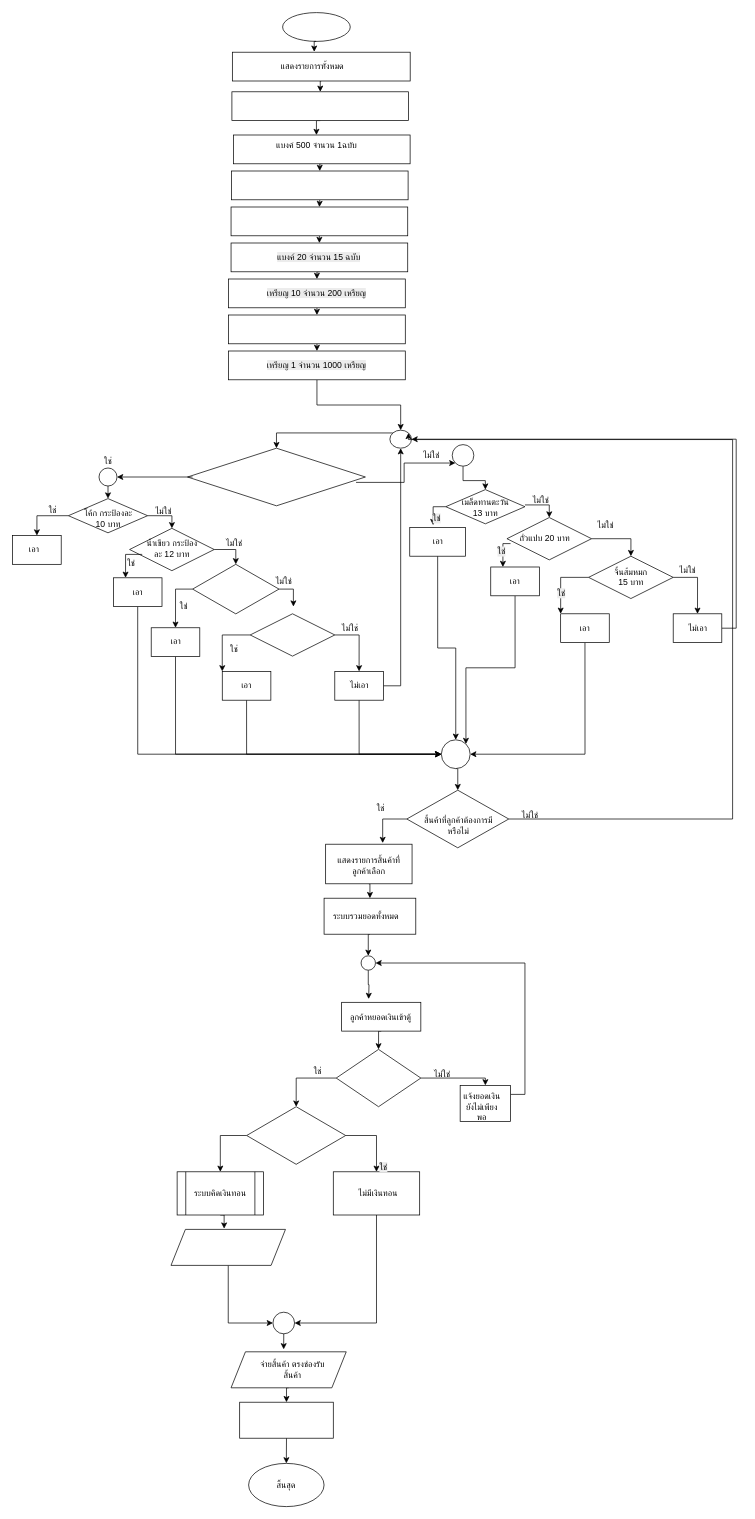
This 755x1519 diagram has some shape labels left out. Each missing label, with the centre of its shape:
ลาเต้ หวานเจี๊ยบ 35 บาท: the point at 292,634
ลูกค้าเลือกรายการสิ้นค้าประเภทน้ำหรือไม่: the point at 276,476
อเมริกาโน่ 30 บาท: the point at 235,589
เงินที่จ่าย-ยอดทั้งหมด=0 หรือไม่: the point at 296,1135
เงินที่จ่าย>=ยอดทั้งหมดหรือไม่: the point at 378,1078
เริ่มต้น: the point at 316,26
เหรียญ 5 จำนวน 500 เหรียญ: the point at 316,329
แบงค์ 100 จำนวน 3 ฉบับ: the point at 319,185
แบงค์ 1000 จำนวน 1ฉบับ: the point at 320,106
แบงค์ 50 จำนวน 8 ฉบับ: the point at 319,221
แสดงยอดเงินคงเหลือในตู้: the point at 286,1419
แสดงเงินทอน: the point at 227,1247
